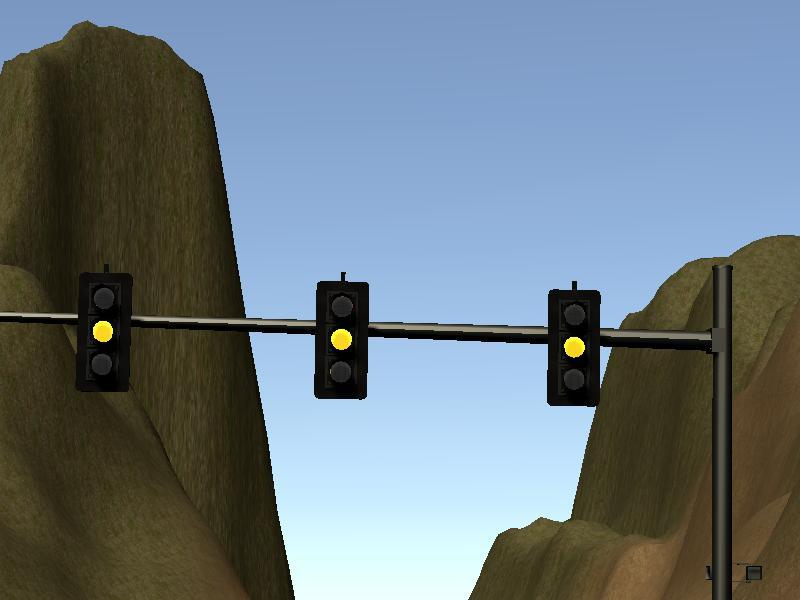Yellow: (79, 272, 130, 391), (548, 288, 599, 406), (316, 280, 365, 400)
